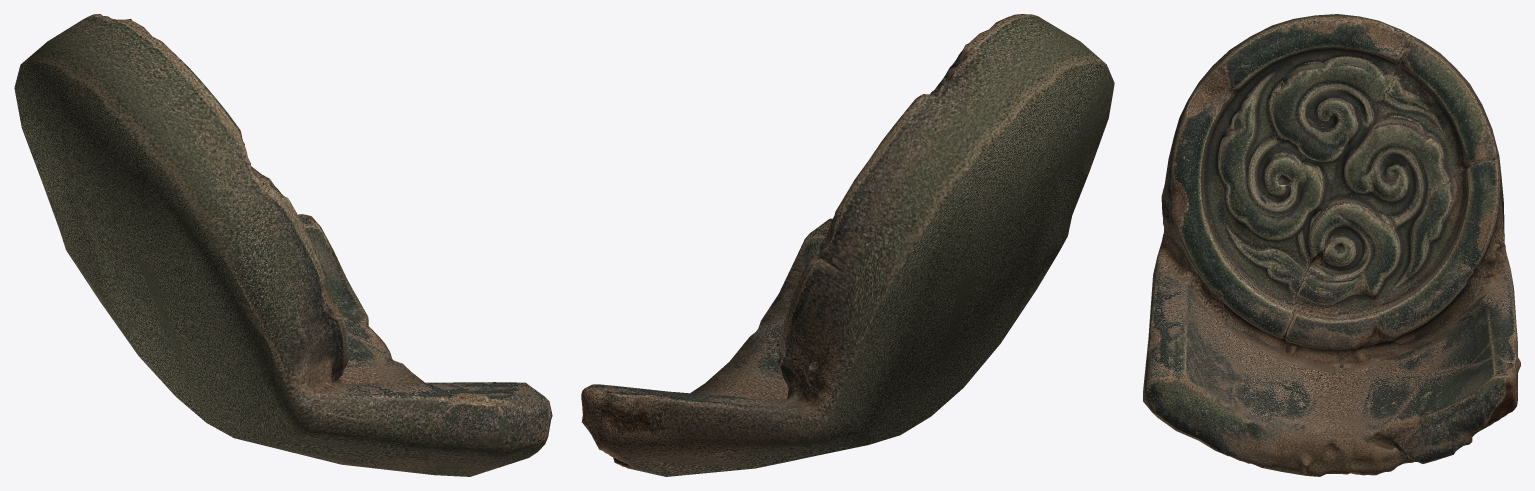
The model's file is tripo_convert_9199cde7-0754-47ac-938a-3ca4c3056e17.fbx.
The picture shows the model from 3 angles, left to right: view 1: azimuth 30°, elevation 25°; view 2: azimuth 150°, elevation 25°; view 3: azimuth 270°, elevation 25°; orthographic projection. The views are drawn at different scales.
Visible parts, largest first — view 1: tripo_node_9199cde7; view 2: tripo_node_9199cde7; view 3: tripo_node_9199cde7.
Part boxes in pixels (x1=…): tripo_node_9199cde7: x1=14, y1=14, x2=552, y2=476; tripo_node_9199cde7: x1=581, y1=14, x2=1114, y2=476; tripo_node_9199cde7: x1=1143, y1=14, x2=1520, y2=476.
Bounding box in the file's own units: 0.7871 × 0.998 × 0.9551.
Materials: 1 (1 with a texture image).
